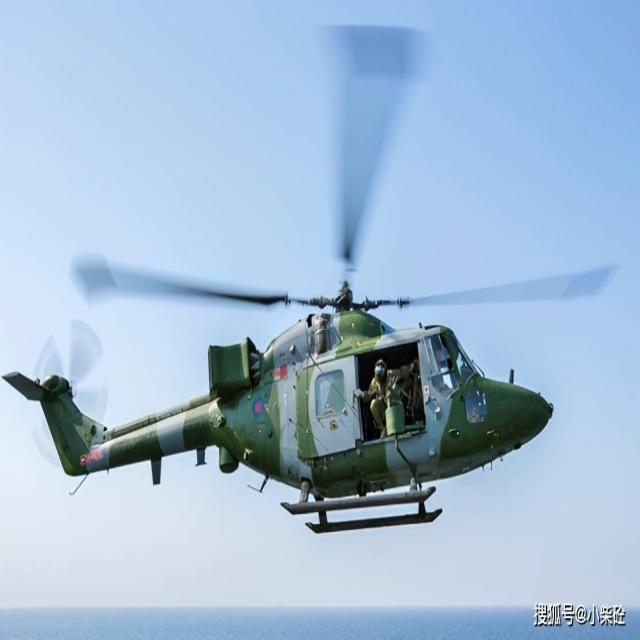MIL_HELO: (0, 28, 624, 536)
